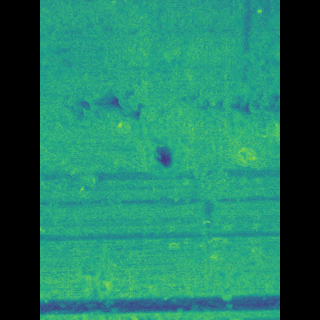Loch: (68, 0, 249, 141), (204, 0, 251, 171), (187, 168, 233, 313), (98, 240, 133, 320), (142, 117, 179, 184)
